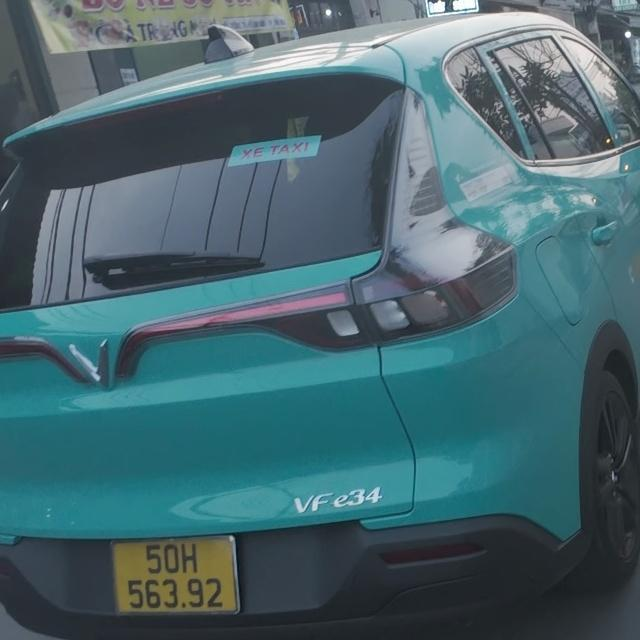car: (0, 8, 640, 640)
plate: (108, 536, 257, 622)
